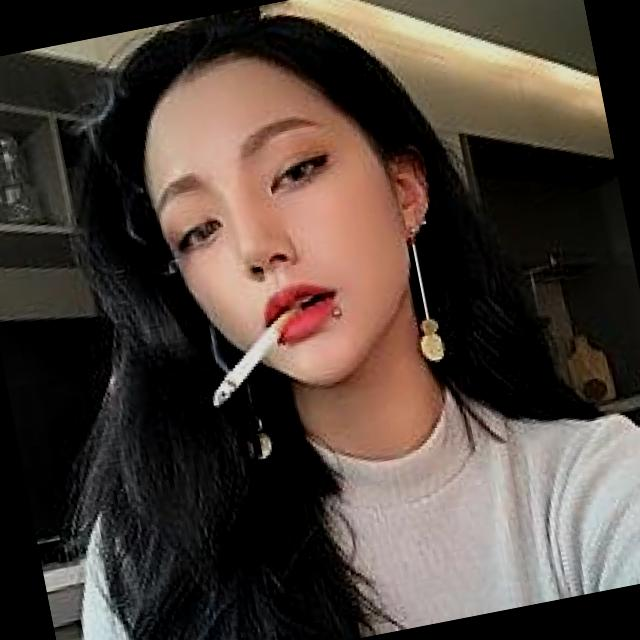cigarette: (153, 274, 339, 436)
